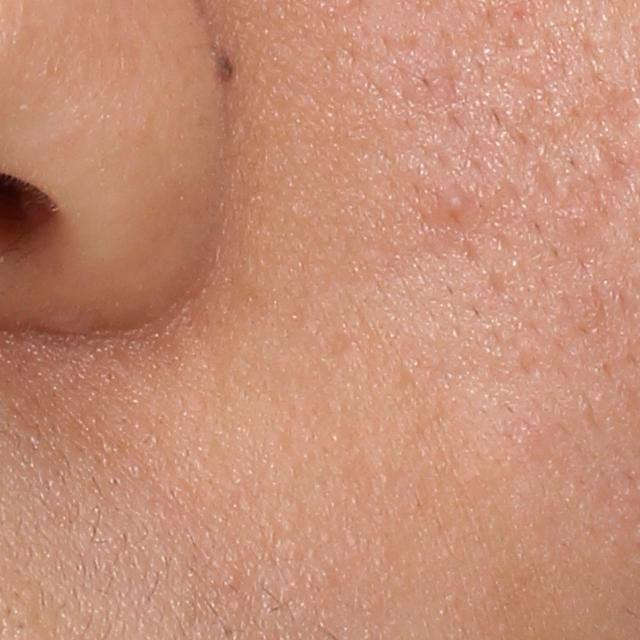nevus: (218, 48, 233, 80)
papule: (439, 187, 470, 215)
